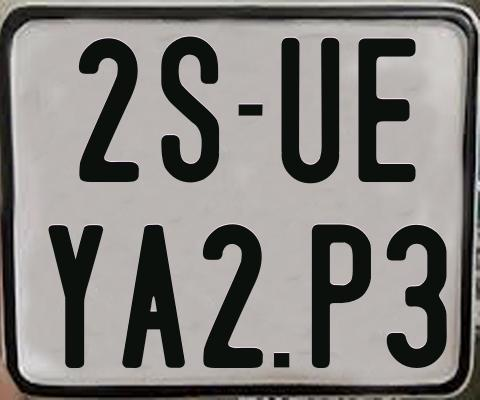2: (77, 37, 143, 181), (200, 224, 263, 368)
3: (384, 223, 445, 370)
A: (120, 223, 183, 369)
E: (358, 36, 419, 180)
P: (310, 222, 373, 370)
S: (161, 36, 220, 183)
U: (280, 37, 342, 187)
Y: (48, 223, 107, 372)
